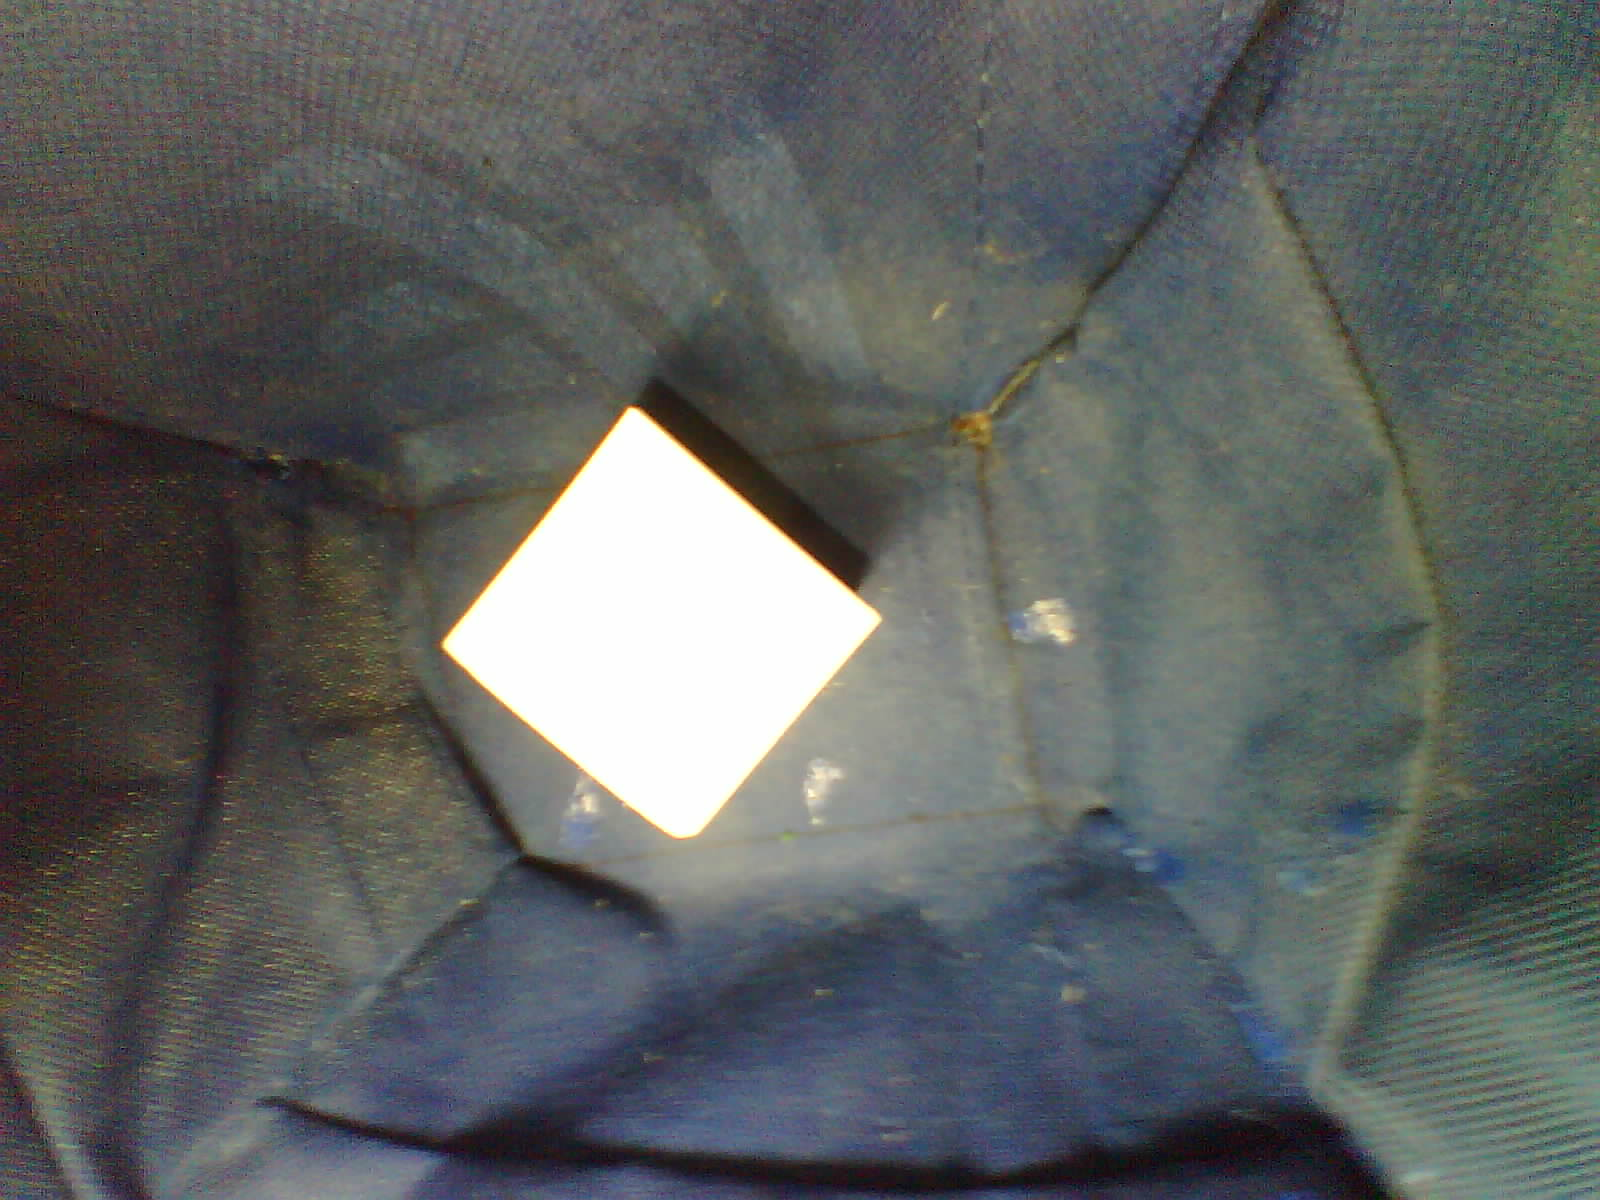cube-hard: (414, 387, 898, 862)
